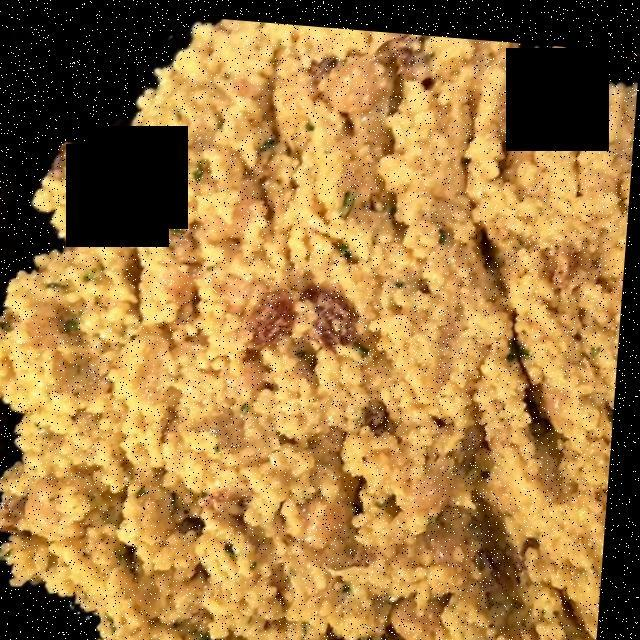couscous: (0, 24, 623, 640)
